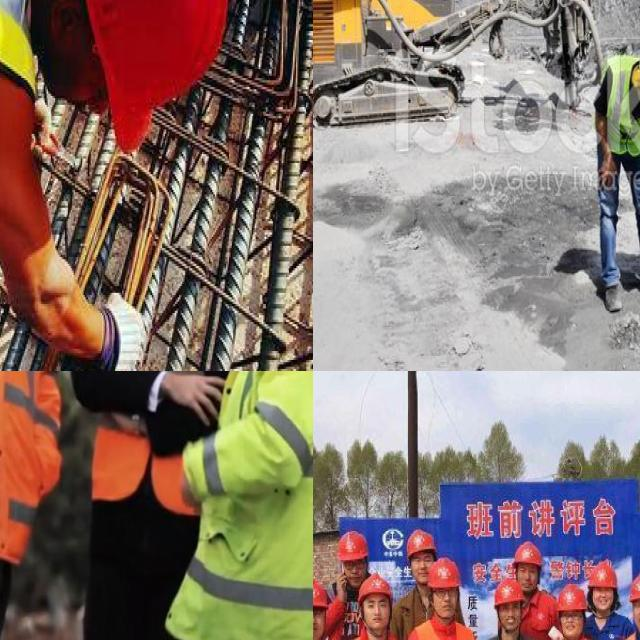face_nomask: (362, 594, 391, 632), (339, 557, 368, 591), (433, 585, 459, 622), (410, 553, 437, 588), (498, 602, 521, 637), (516, 565, 542, 595), (560, 609, 584, 637), (594, 584, 615, 615), (313, 606, 328, 638), (632, 592, 640, 636)
hand_glove: (93, 288, 150, 371)
hand_noglove: (159, 371, 227, 429)
head_helmet: (79, 0, 220, 158), (355, 572, 393, 600), (426, 557, 459, 587), (338, 529, 368, 559), (404, 526, 436, 554), (510, 540, 542, 568), (586, 560, 618, 588), (494, 576, 526, 604), (556, 582, 588, 610), (313, 575, 327, 607), (628, 567, 640, 599)
person: (0, 0, 231, 185), (80, 371, 221, 640), (228, 371, 313, 640), (601, 43, 640, 300), (411, 557, 484, 640), (327, 523, 369, 630), (582, 557, 634, 640), (396, 524, 439, 624), (515, 536, 556, 640)
shoes: (601, 272, 624, 316)
vest: (228, 371, 313, 640), (95, 371, 236, 484), (606, 62, 640, 156)
